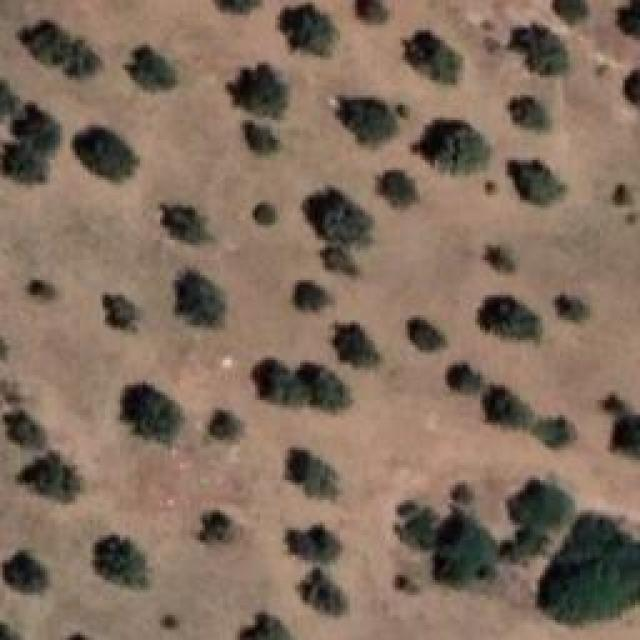Tree: (537, 512, 640, 621), (433, 508, 498, 586), (18, 20, 102, 77), (413, 120, 492, 175), (303, 188, 373, 246), (123, 385, 184, 443), (73, 128, 139, 181), (508, 478, 574, 530), (228, 62, 291, 116), (508, 23, 569, 75), (20, 454, 83, 504), (403, 30, 462, 83), (175, 270, 226, 327), (337, 98, 397, 145), (295, 362, 350, 412), (483, 295, 541, 340), (280, 5, 330, 57), (510, 160, 566, 206), (285, 448, 336, 498), (600, 395, 640, 458), (98, 538, 147, 589), (298, 568, 349, 616), (13, 105, 62, 153), (125, 45, 176, 91), (250, 360, 296, 411), (333, 322, 382, 367), (0, 138, 48, 183), (483, 385, 533, 427), (288, 525, 343, 562), (160, 205, 210, 245), (400, 500, 440, 550), (500, 525, 550, 562), (5, 553, 49, 594), (5, 410, 48, 448), (240, 612, 293, 640), (377, 170, 417, 207), (533, 418, 576, 450), (510, 98, 551, 131), (408, 320, 446, 352), (105, 295, 137, 331), (198, 510, 233, 542), (320, 245, 355, 276), (295, 282, 331, 312), (448, 364, 484, 394), (245, 123, 278, 155), (210, 410, 243, 442), (485, 245, 514, 275), (617, 0, 640, 37), (552, 0, 587, 24), (555, 298, 589, 321), (355, 0, 388, 23), (622, 70, 640, 105), (215, 0, 261, 12), (453, 483, 474, 505), (395, 575, 418, 594), (30, 282, 53, 300), (255, 206, 275, 226), (613, 186, 632, 206), (485, 180, 498, 195), (163, 615, 178, 628), (398, 105, 408, 120)
